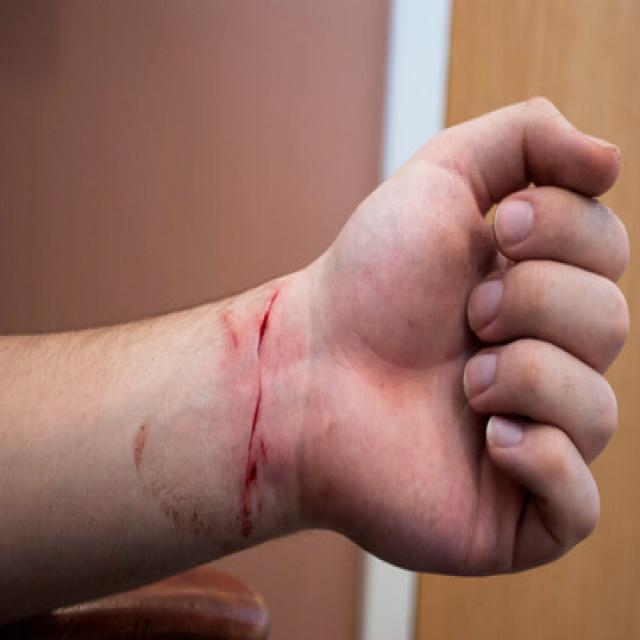Cut: (245, 280, 281, 499)
